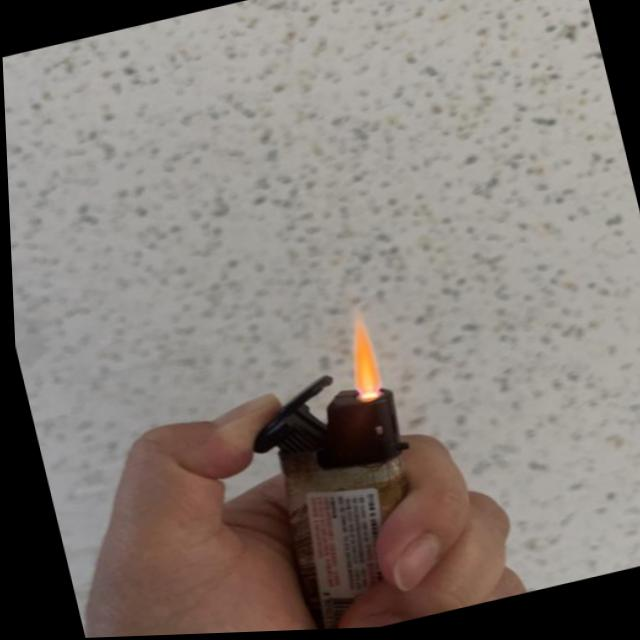Fire: (337, 321, 384, 402)
